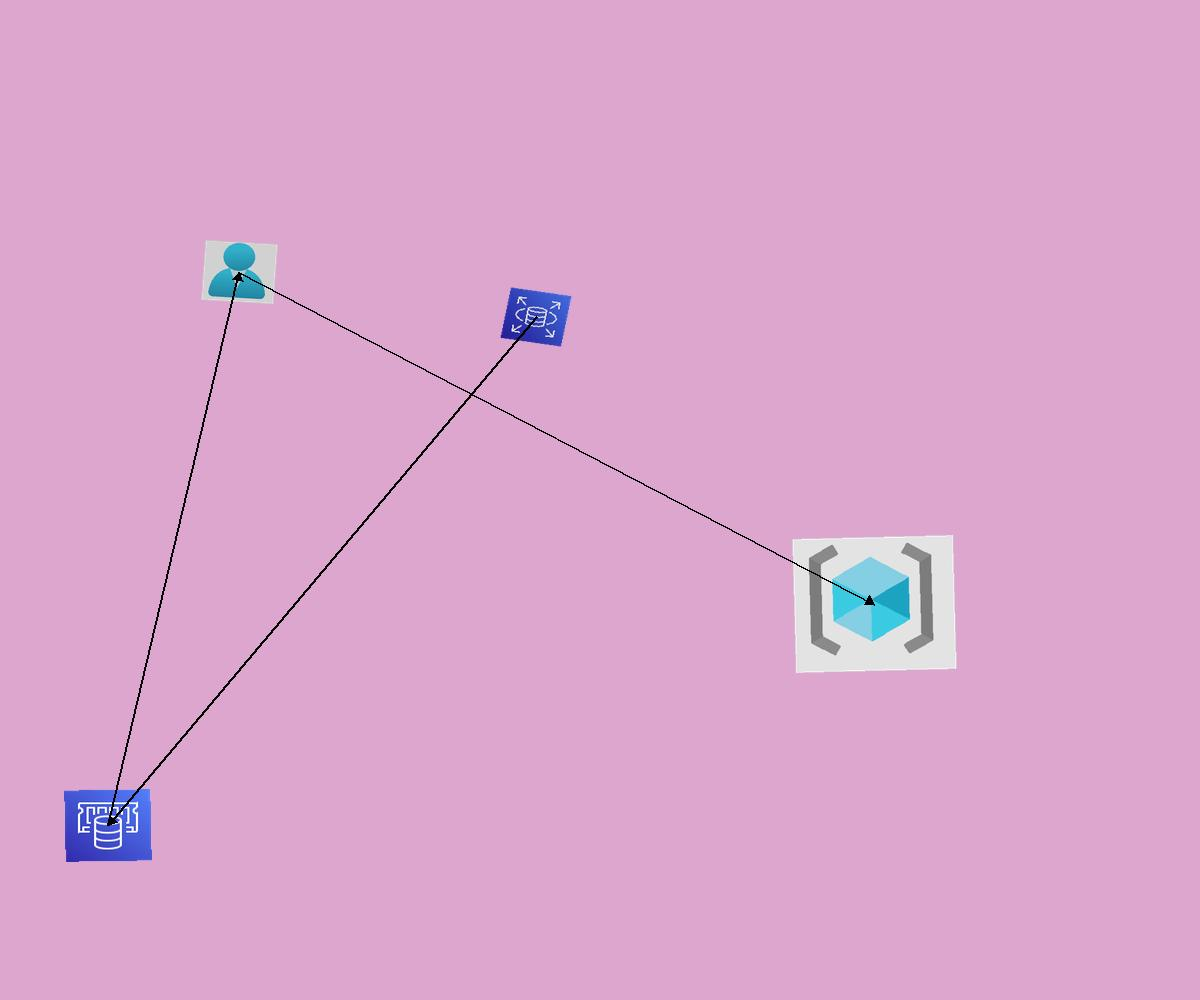AWS-ElastiCache: (64, 789, 152, 862)
AWS-RDS: (500, 287, 572, 347)
Azure_resource_group: (792, 535, 957, 673)
Azure_users: (201, 240, 278, 304)
